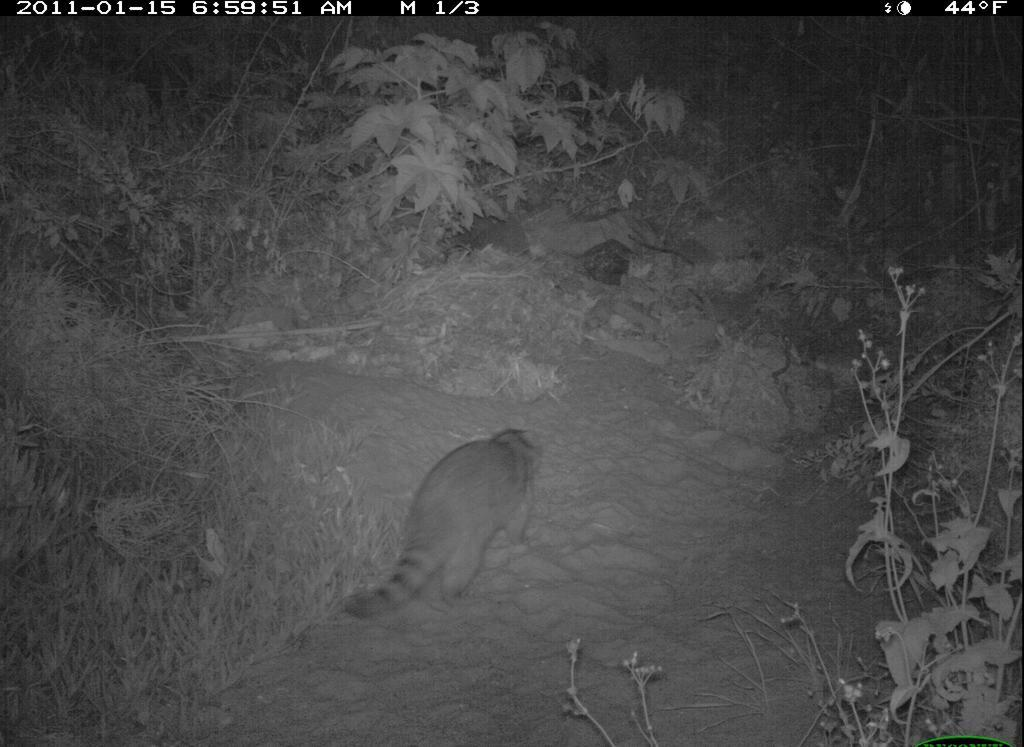raccoon: (340, 423, 547, 632)
